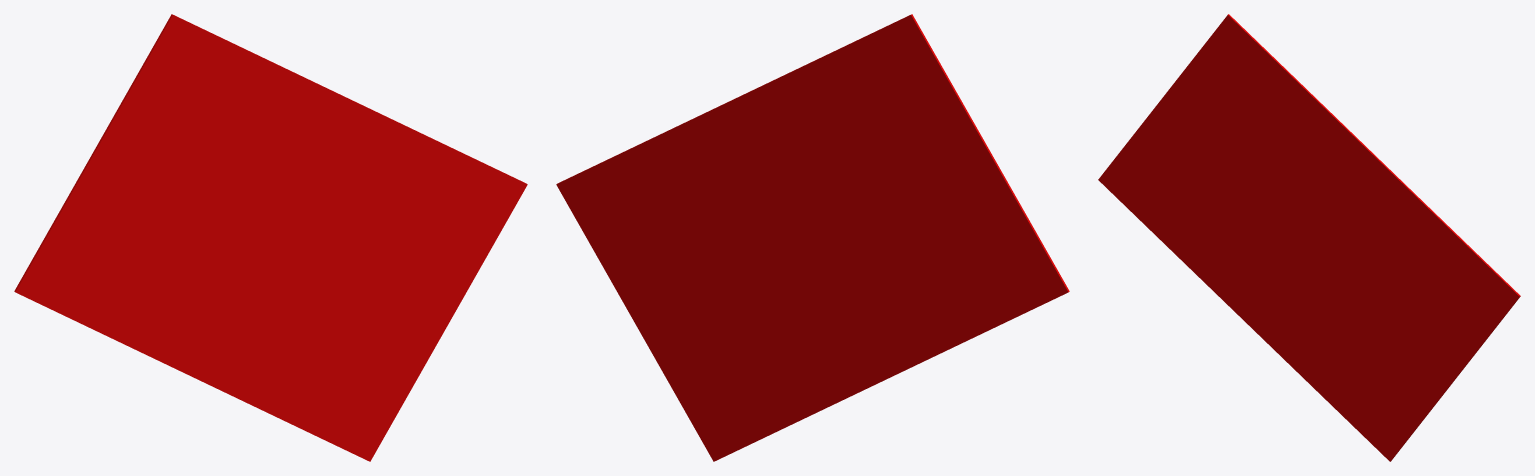
Rendered from Flag.fbx.
The picture shows the model from 3 angles, left to right: view 1: azimuth 30°, elevation 25°; view 2: azimuth 150°, elevation 25°; view 3: azimuth 330°, elevation 25°; orthographic projection. The views are drawn at different scales.
Parts seen in each view (by area): view 1: pCube4; view 2: pCube4; view 3: pCube4.
Boxes of the visible parts, box(x1,y1,x2,y2) form: pCube4: box(14, 14, 527, 461); pCube4: box(556, 14, 1069, 461); pCube4: box(1098, 14, 1520, 461).
Size of the model in its own units: 10.33 by 9.54 by 0.0436.
